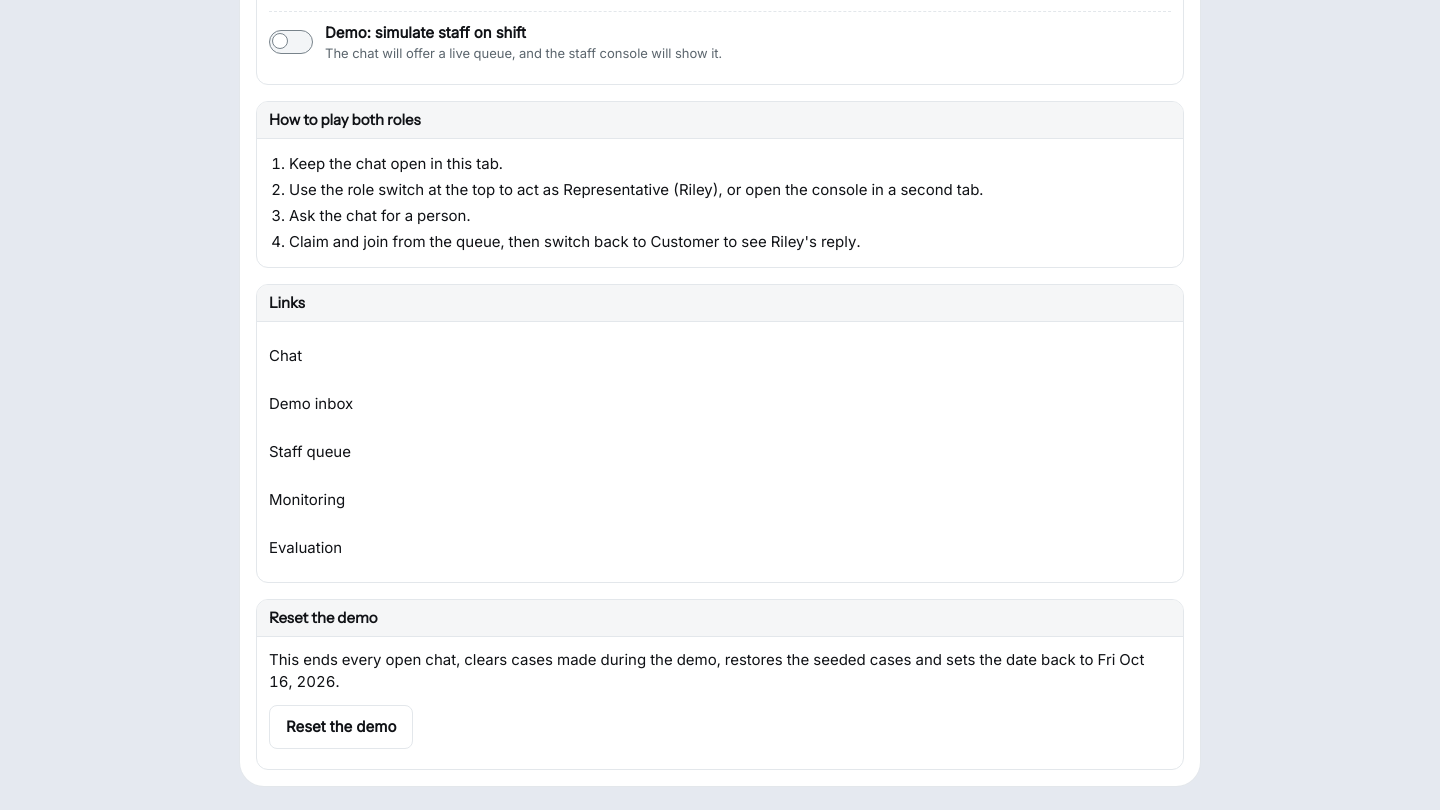
it: Scr03 demo guide › reset with no chats ended omits that sentence
This screenshot has width=1440, height=810.
(page scrolled)
Click the button "Reset the demo".
click(341, 727)  # box x1=269 y1=705 x2=413 y2=749
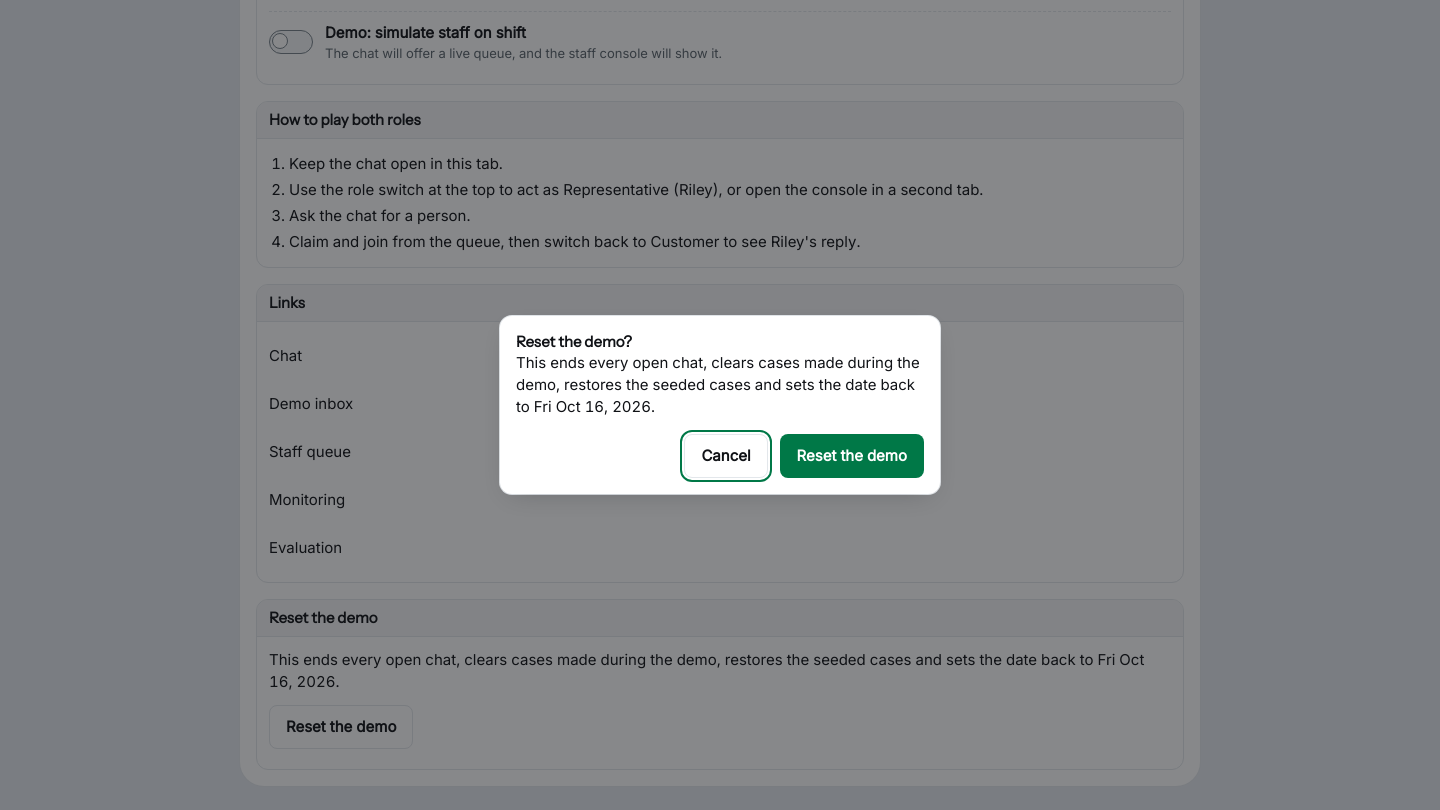
Click the button "Reset the demo".
click(852, 456)  # box x1=780 y1=434 x2=924 y2=478
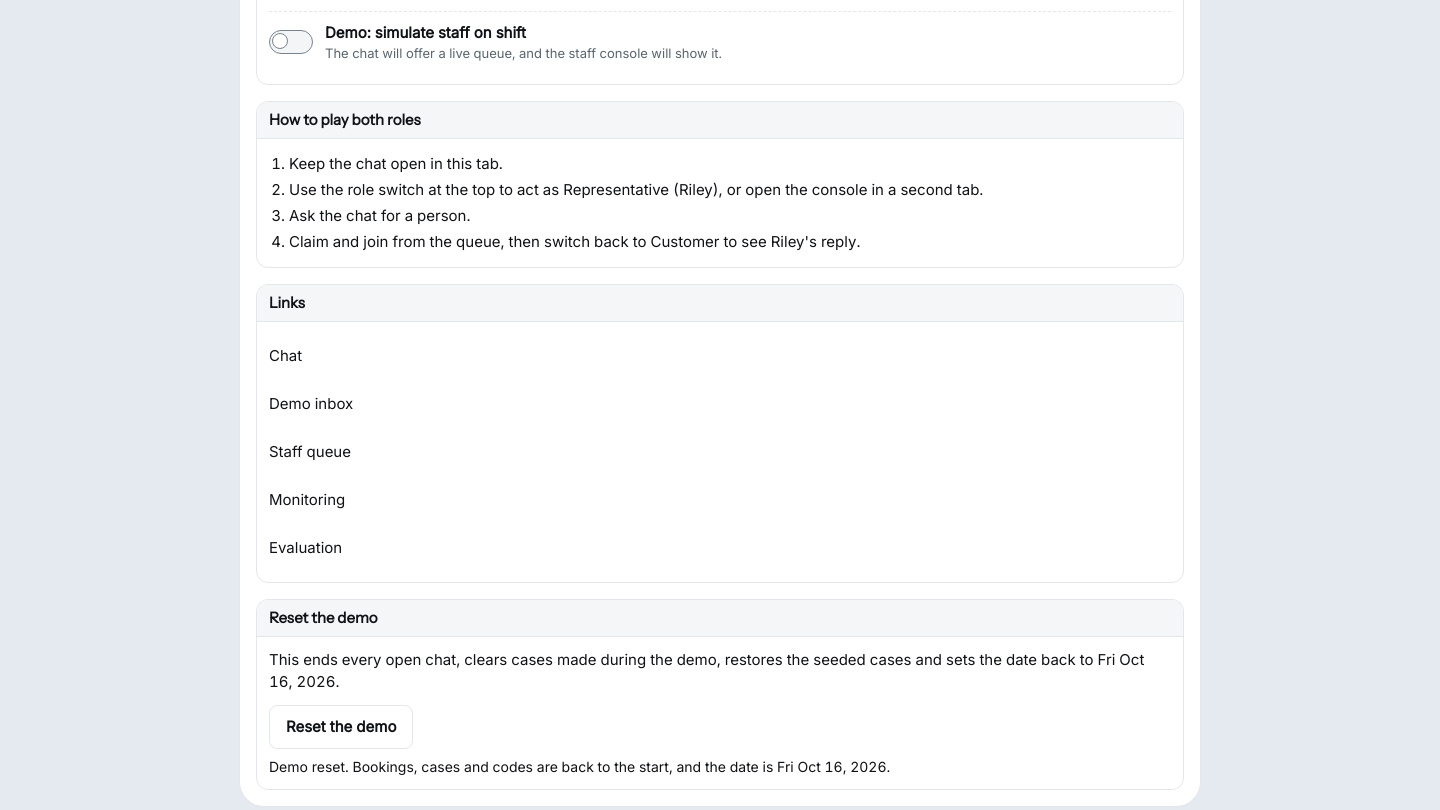
Expected: the text "Demo reset. Bookings, cases and codes are back to the start, and the date is Fri Oct 16, 2026." is shown, x1=269 y1=758 x2=890 y2=775
